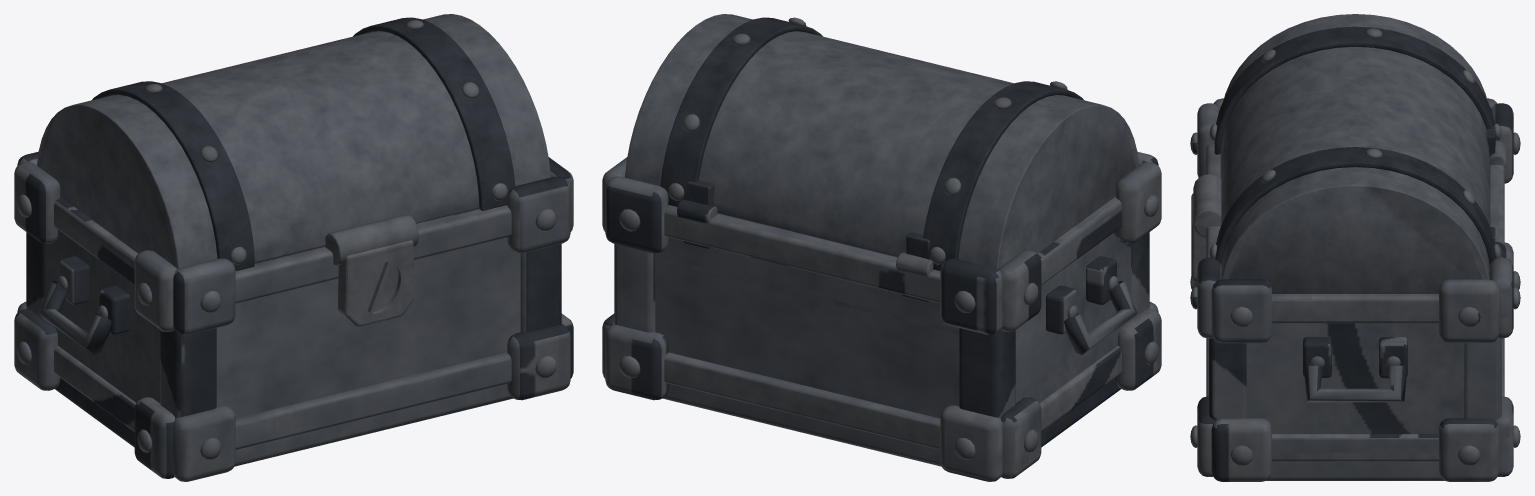
Rendered from T2_Iron.fbx.
3 views of the same model, side by side, from view 1: azimuth 30°, elevation 25°; view 2: azimuth 150°, elevation 25°; view 3: azimuth 270°, elevation 25° (orthographic). The views are drawn at different scales.
Visible parts, largest first — view 1: Body, Lid; view 2: Body, Lid; view 3: Lid, Body.
Part boxes in pixels (x1,y1,x2,y2): Body: [14, 151, 573, 481]; Lid: [37, 14, 550, 326]; Body: [602, 151, 1161, 481]; Lid: [625, 14, 1138, 270]; Lid: [1191, 14, 1501, 293]; Body: [1190, 98, 1520, 481].
Size of the model in its own units: 1.14 by 0.7681 by 0.747.
1 material, 1 textured.
